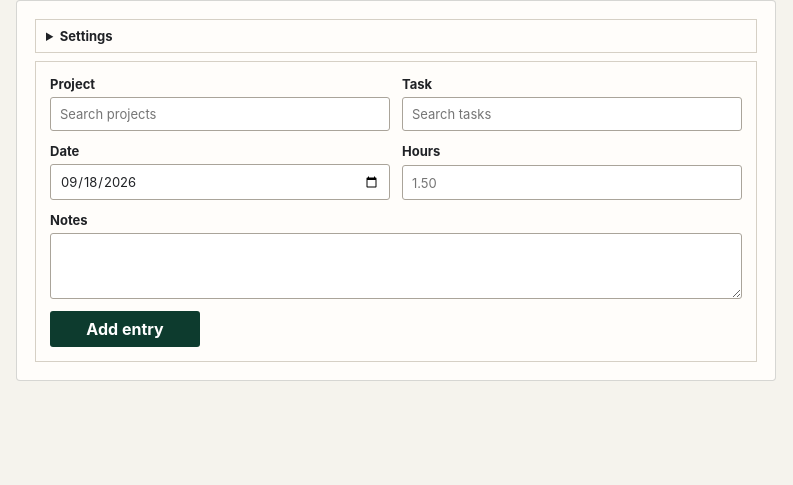
Test: App › submits an enriched time entry and retains selections
Step 1. Focus the dropdown labelled "Project" → (220, 114), box [50,97,390,131]
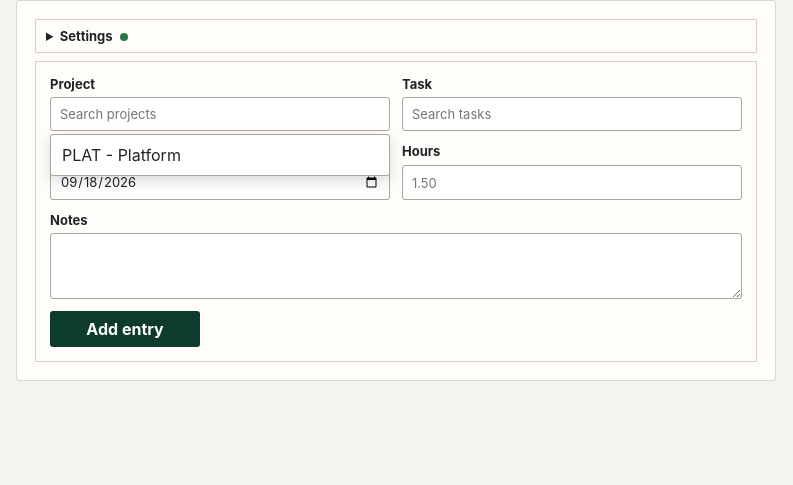
Step 2. Click the option "PLAT - Platform" → (121, 155), box [54,138,386,172]
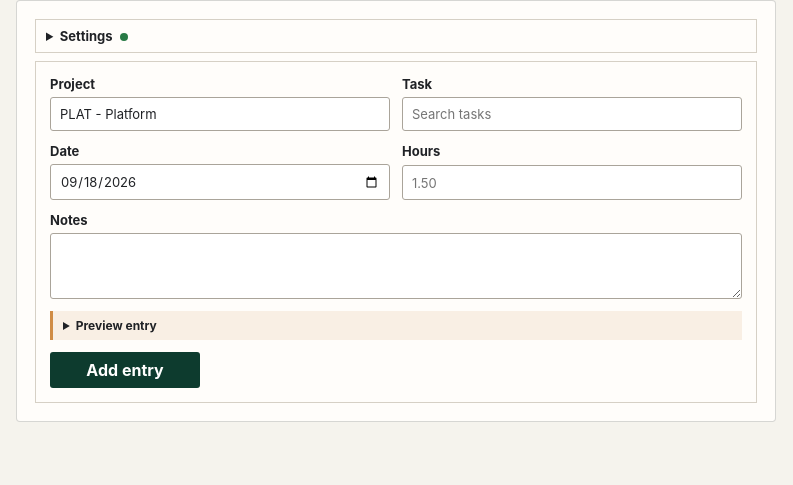
Step 3. Focus the dropdown labelled "Task" → (572, 114), box [402,97,742,131]
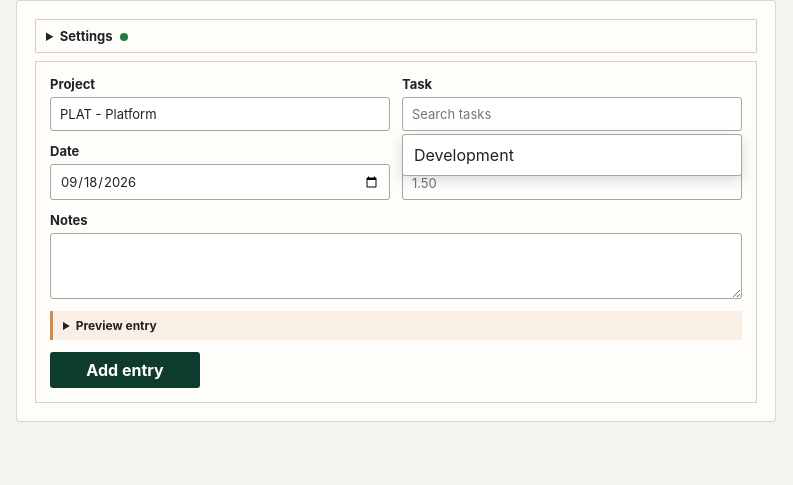
Step 4. Click the option "Development" → (464, 155), box [406,138,738,172]
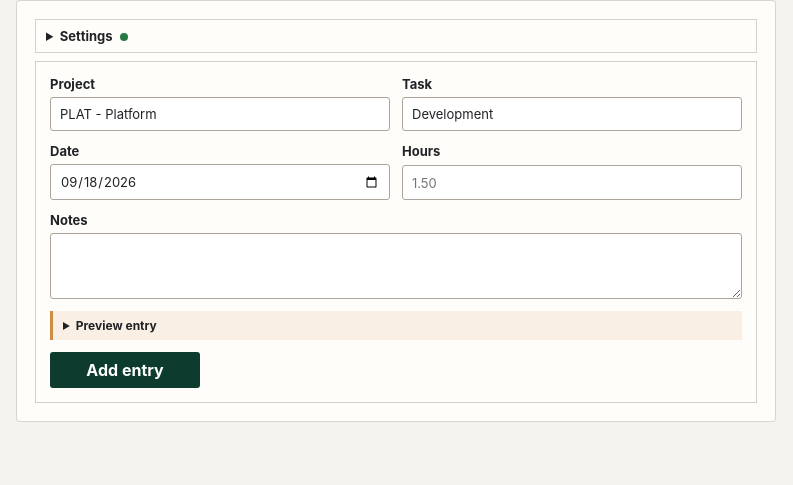
Step 5. Type "1.5" into the number field labelled "Hours" → (572, 182), box [402,165,742,200]
Step 6. Type "Reviewed rollout." into the text box labelled "Notes" → (396, 266), box [50,233,742,299]
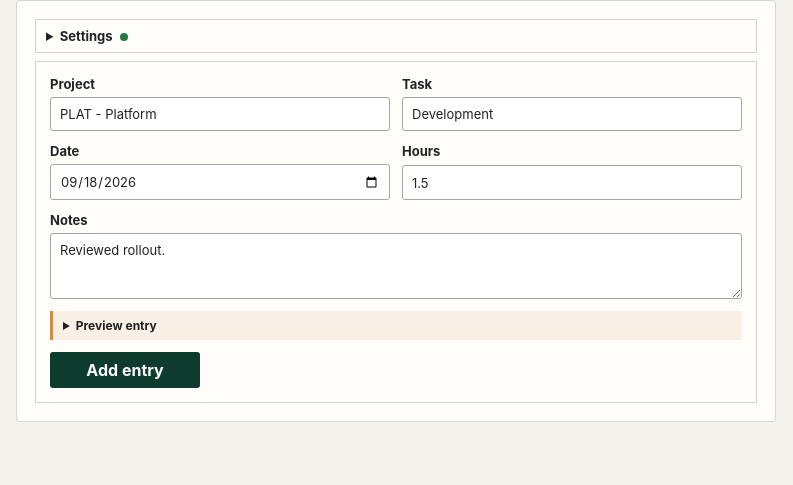
Step 7. Click the button "Add entry" → (125, 370), box [50,352,200,388]
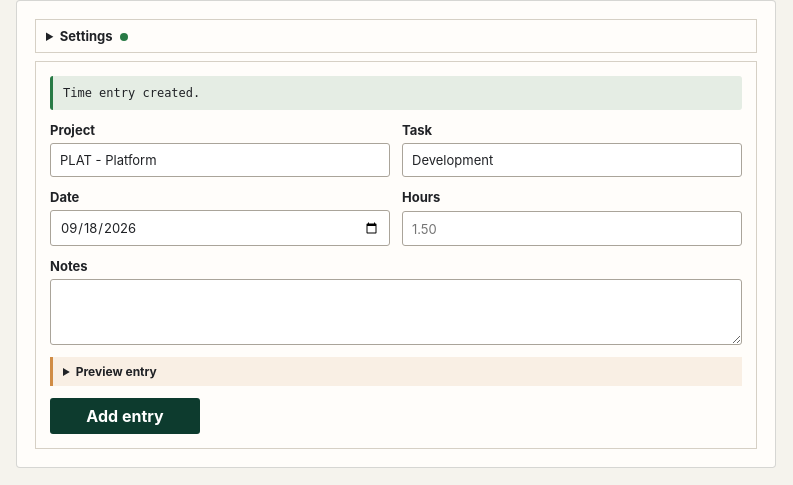
Result: the dropdown labelled "Project" holds "PLAT - Platform" at [50,143,390,177]
Result: the dropdown labelled "Task" holds "Development" at [402,143,742,177]
Result: the message shows "Time entry created" at [63,86,200,100]
